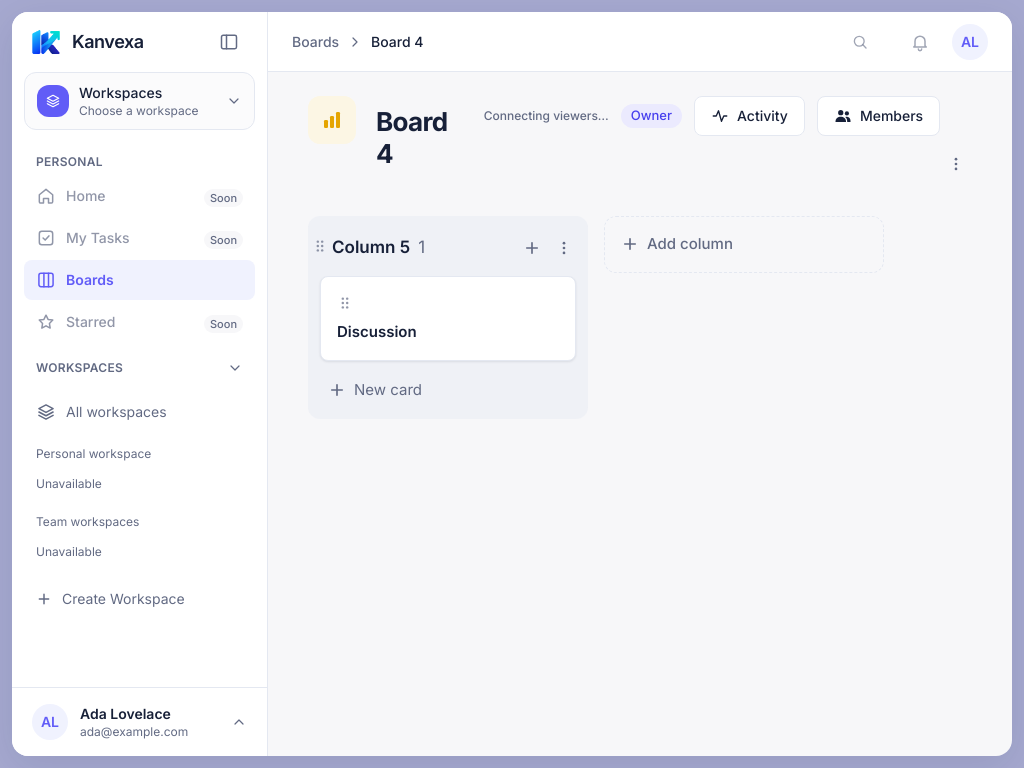
card comments › shows escaped Unicode/newlines, former member and no edit for another author even as OWNER
The image size is (1024, 768).
Click the button "Discussion".
click(377, 332)  # box [337,321,417,344]
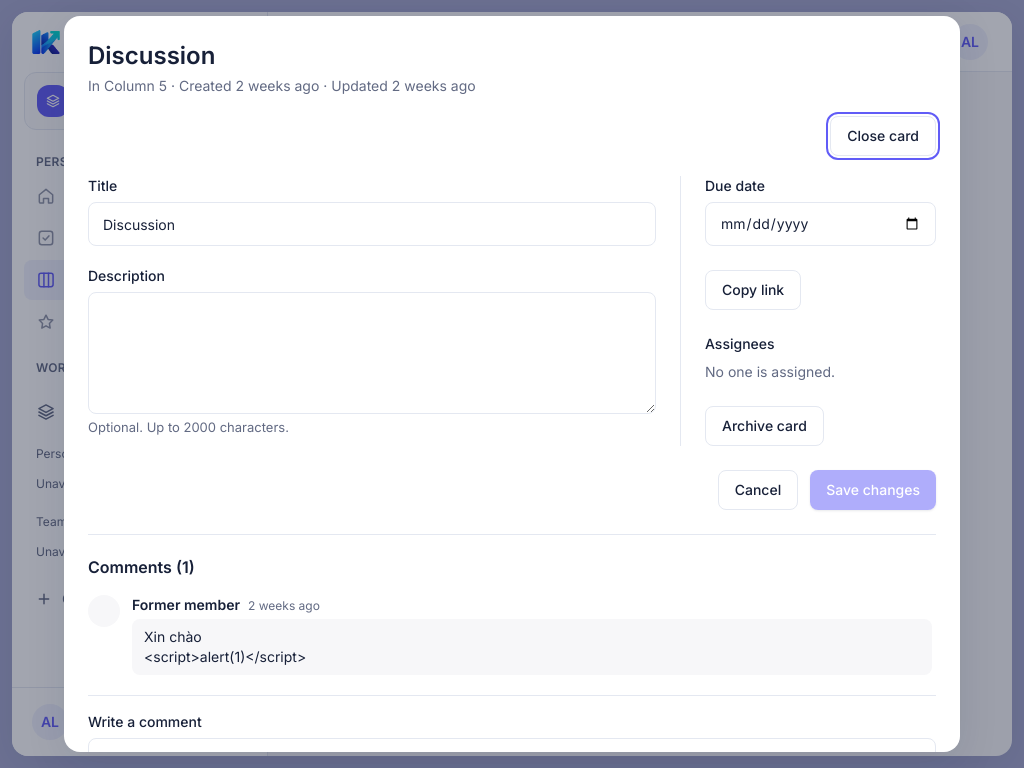
Now the text "Former member" is shown, box [132,595,240,615]
